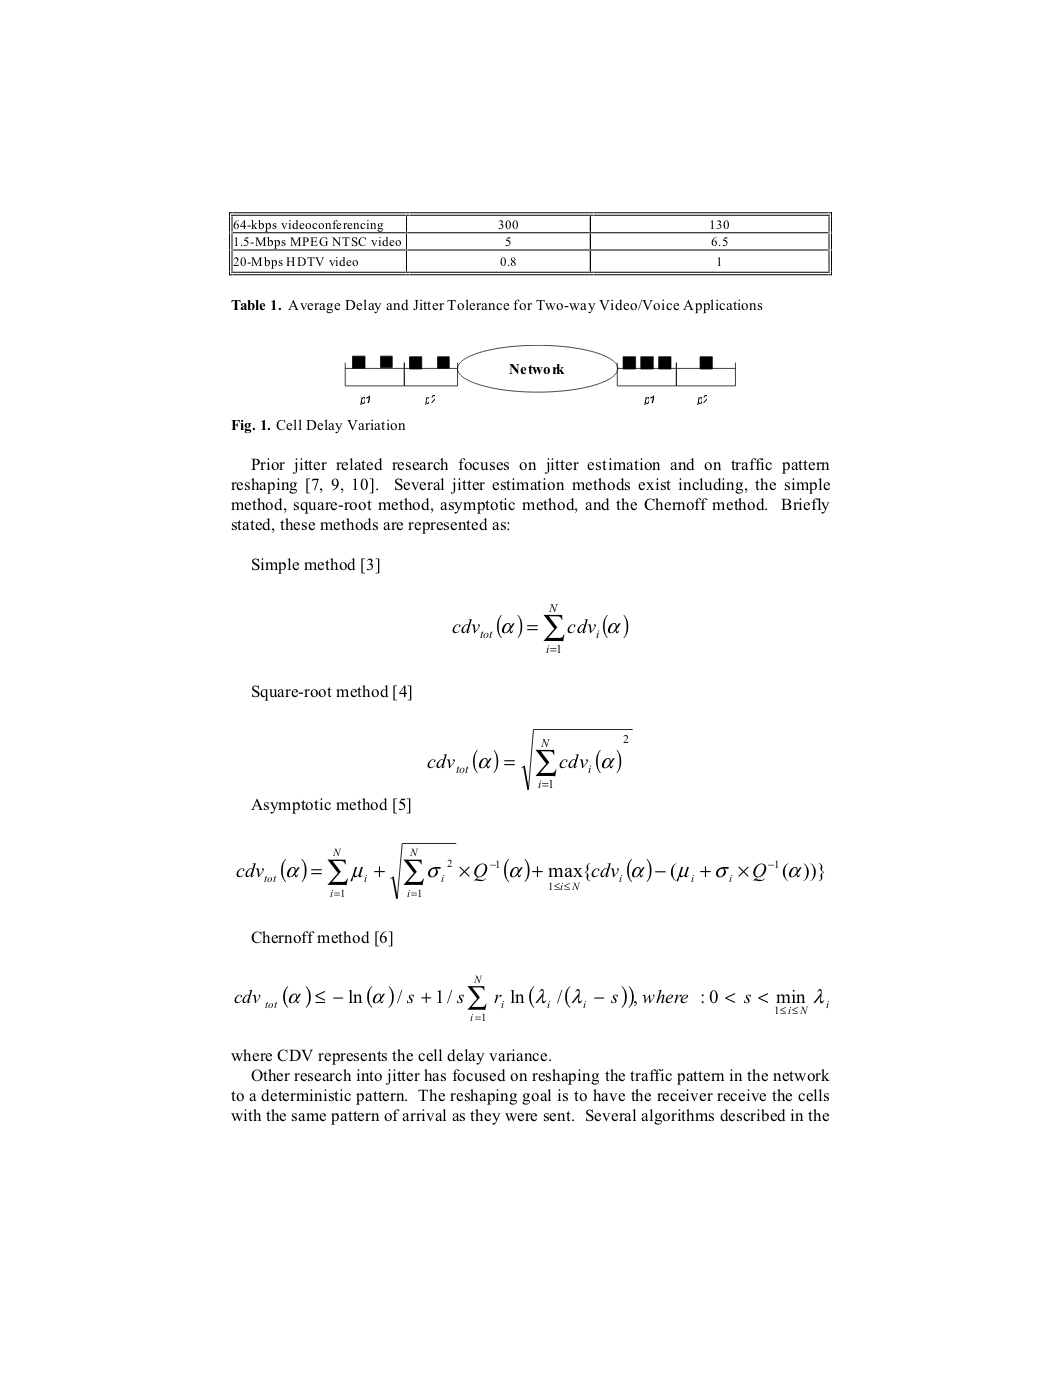Table: (228, 211, 831, 276)
figure: (344, 344, 734, 405)
formula: (236, 843, 824, 899), (234, 975, 828, 1020), (427, 728, 632, 790), (452, 604, 627, 652)
